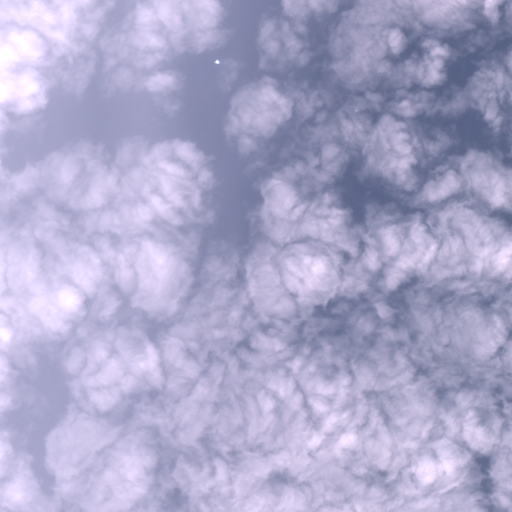Iceberg: (214, 60, 219, 63)
